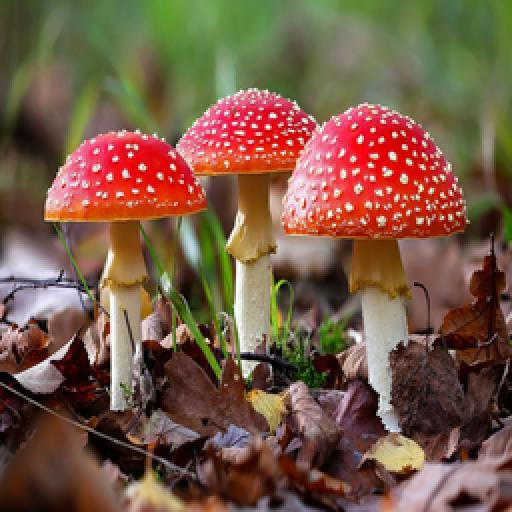mushrooms: (280, 87, 467, 419), (168, 69, 335, 385), (44, 121, 208, 409)
